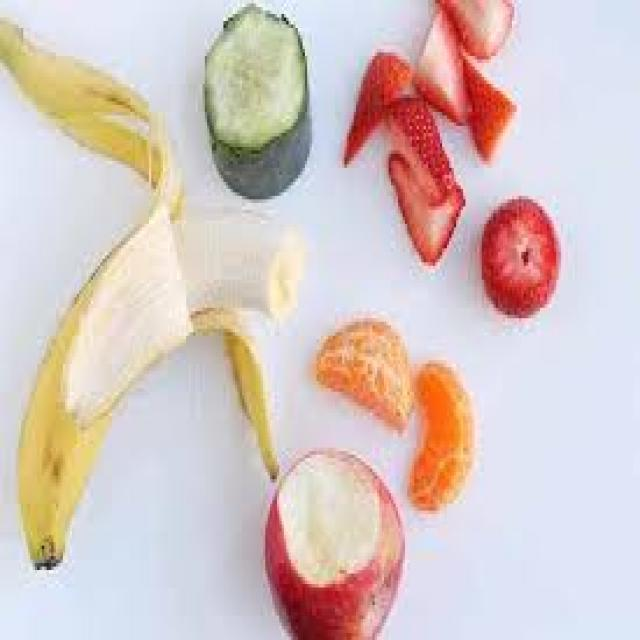Wet: (0, 6, 640, 640), (314, 278, 494, 510), (235, 412, 409, 640), (168, 7, 344, 205), (479, 179, 569, 334)
